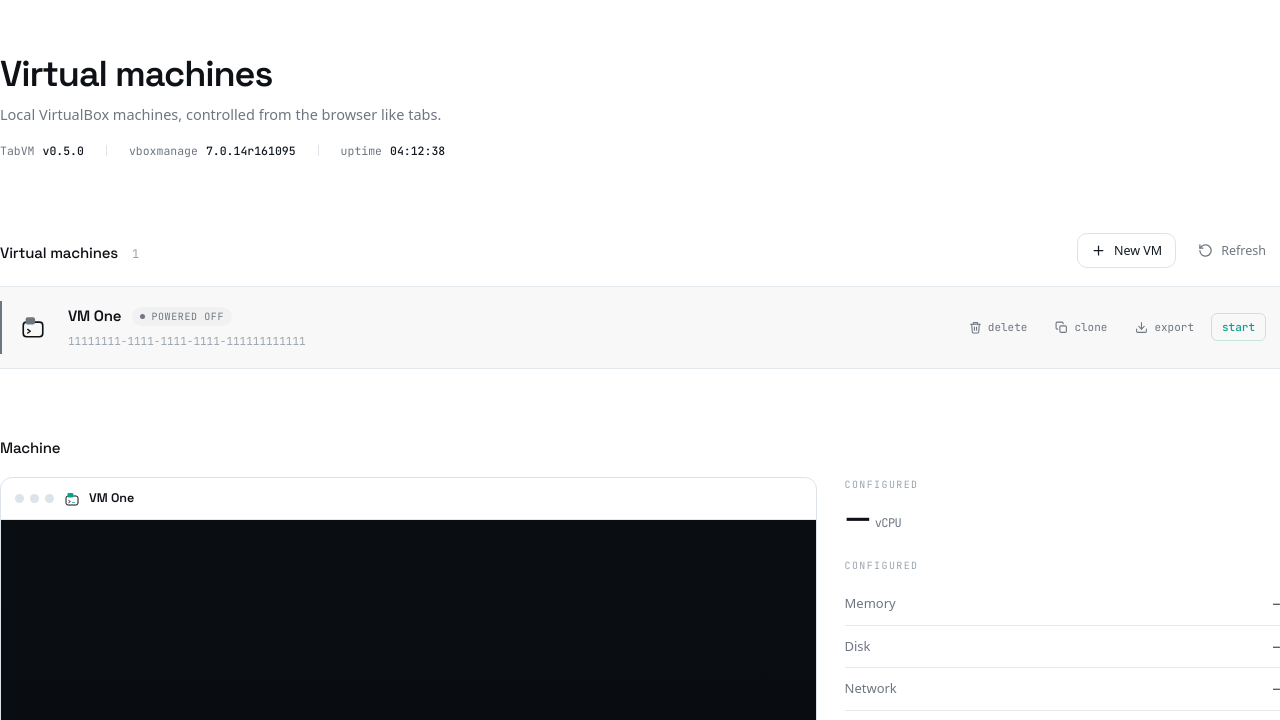
MachinesView › shows the snapshot hint only when the linked clone type is selected
This screenshot has width=1280, height=720.
Click the button with aria-label "Clone VM One" at point(1081, 327), box [1044,313,1118,341]
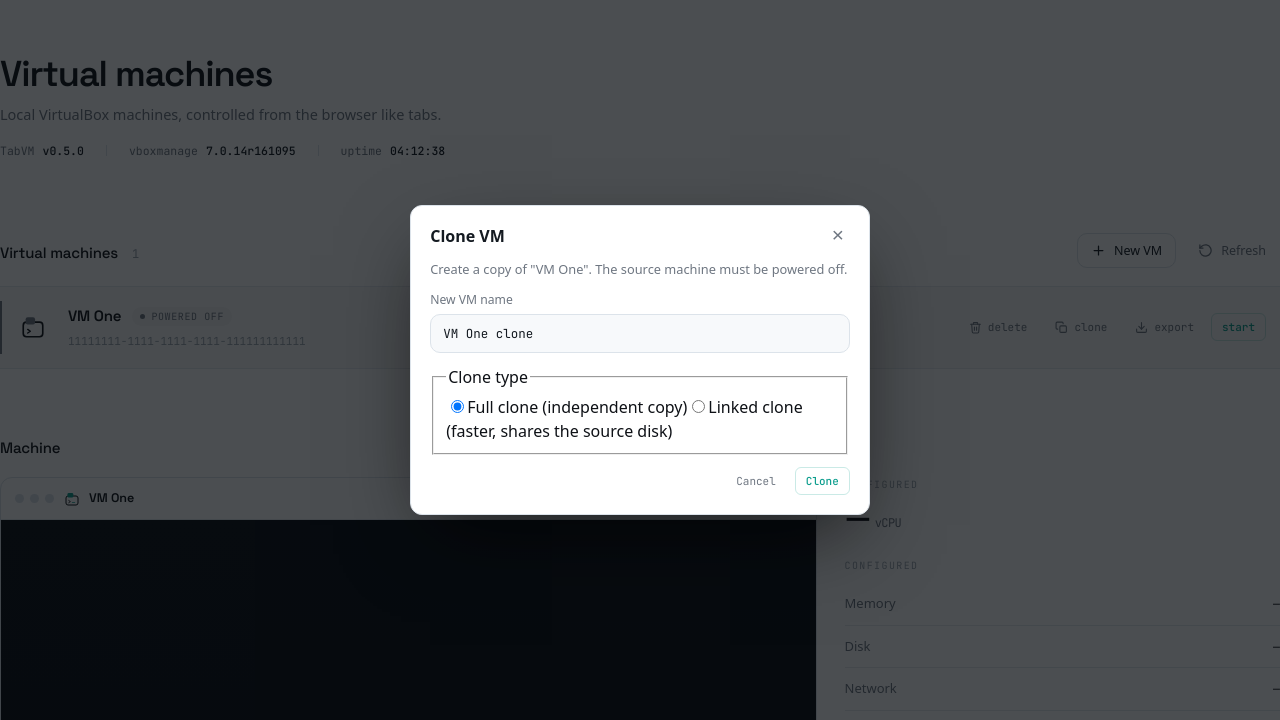
Click the radio button labelled "Linked clone (faster, shares the source disk)" at point(699, 406), box [692,400,705,413]
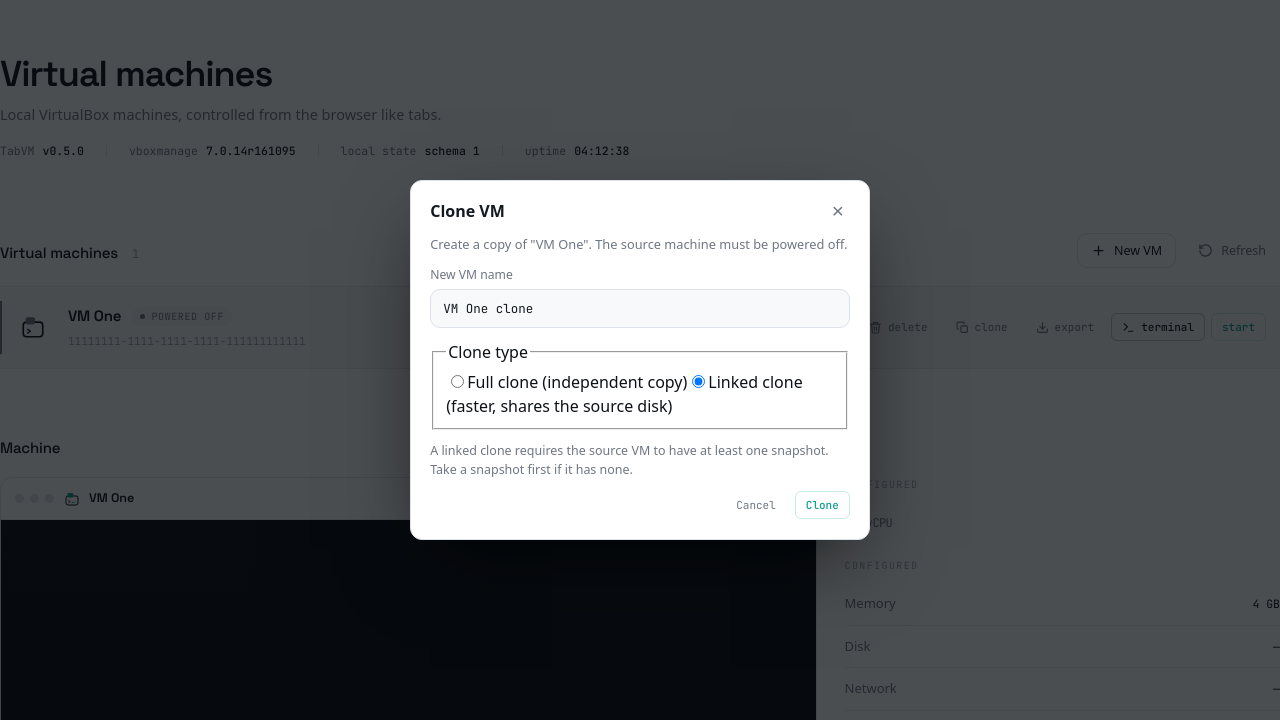
Expected: the text "A linked clone requires the source VM to have at least one snapshot. Take a snapshot first if it has none." is shown, [430,442,829,478]
